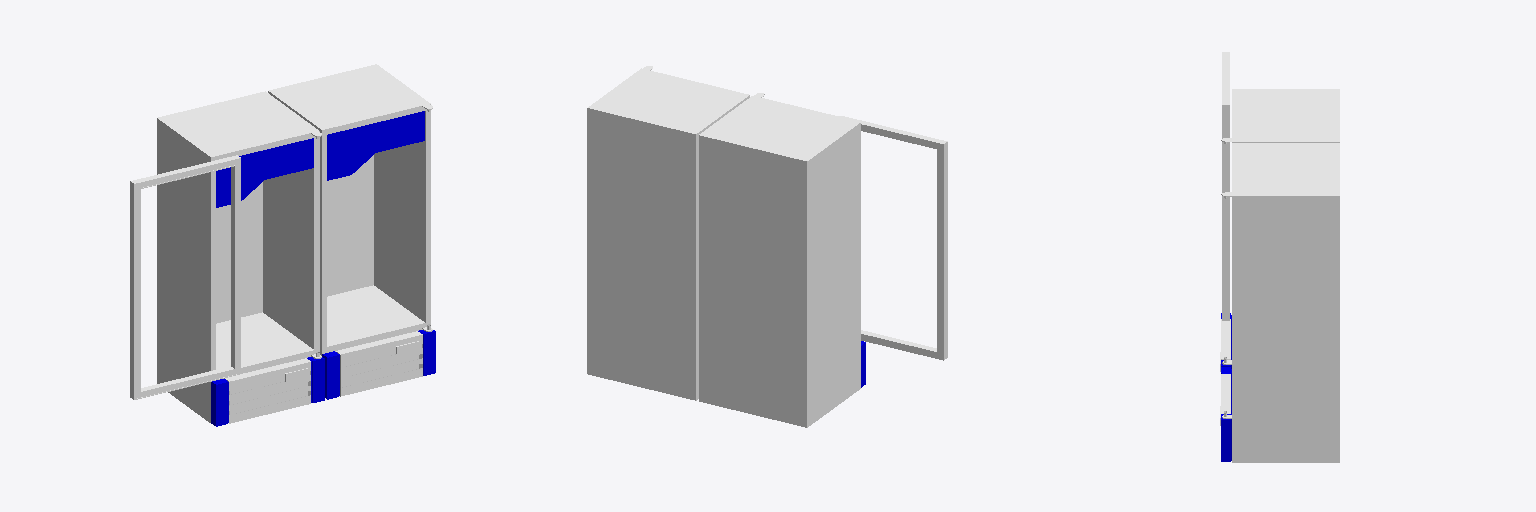
File: cabinet_low.obj
3 renders of one model, left to right at view 1: azimuth 30°, elevation 25°; view 2: azimuth 150°, elevation 25°; view 3: azimuth 270°, elevation 25°, orthographic.
Size of the model in its own units: 17.4 by 14.69 by 5.99.